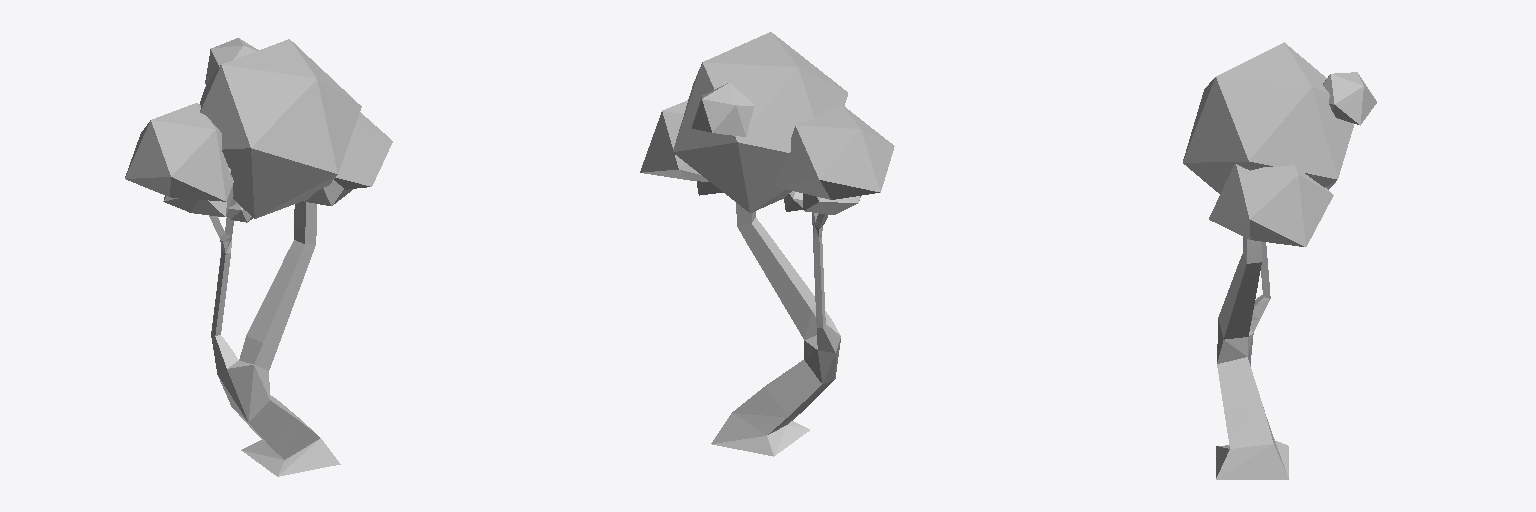
Rendered from Tree4.obj.
3 renders of one model, left to right at view 1: azimuth 30°, elevation 25°; view 2: azimuth 150°, elevation 25°; view 3: azimuth 270°, elevation 25°, orthographic.
Parts seen in each view (by area): view 1: Icosphere.012, Cube.003, Icosphere.013, Icosphere.014, Icosphere.015, Icosphere.016, Icosphere.017; view 2: Icosphere.012, Cube.003, Icosphere.013, Icosphere.015, Icosphere.014, Icosphere.016; view 3: Icosphere.012, Cube.003, Icosphere.014, Icosphere.015.
Boxes of the visible parts, x1,y1,x2,y2 form: Icosphere.012: [200, 39, 361, 218]; Cube.003: [209, 199, 340, 476]; Icosphere.013: [125, 103, 233, 201]; Icosphere.014: [334, 112, 392, 189]; Icosphere.015: [205, 38, 258, 83]; Icosphere.016: [163, 167, 233, 216]; Icosphere.017: [303, 180, 352, 205]; Icosphere.012: [673, 32, 847, 212]; Cube.003: [711, 203, 840, 456]; Icosphere.013: [775, 105, 894, 199]; Icosphere.015: [692, 83, 754, 136]; Icosphere.014: [640, 100, 708, 181]; Icosphere.016: [803, 193, 860, 214]; Icosphere.012: [1183, 42, 1353, 193]; Cube.003: [1216, 237, 1288, 479]; Icosphere.014: [1209, 164, 1333, 246]; Icosphere.015: [1323, 72, 1376, 125].
Size of the model in its own units: 2.83 by 4.38 by 1.96.